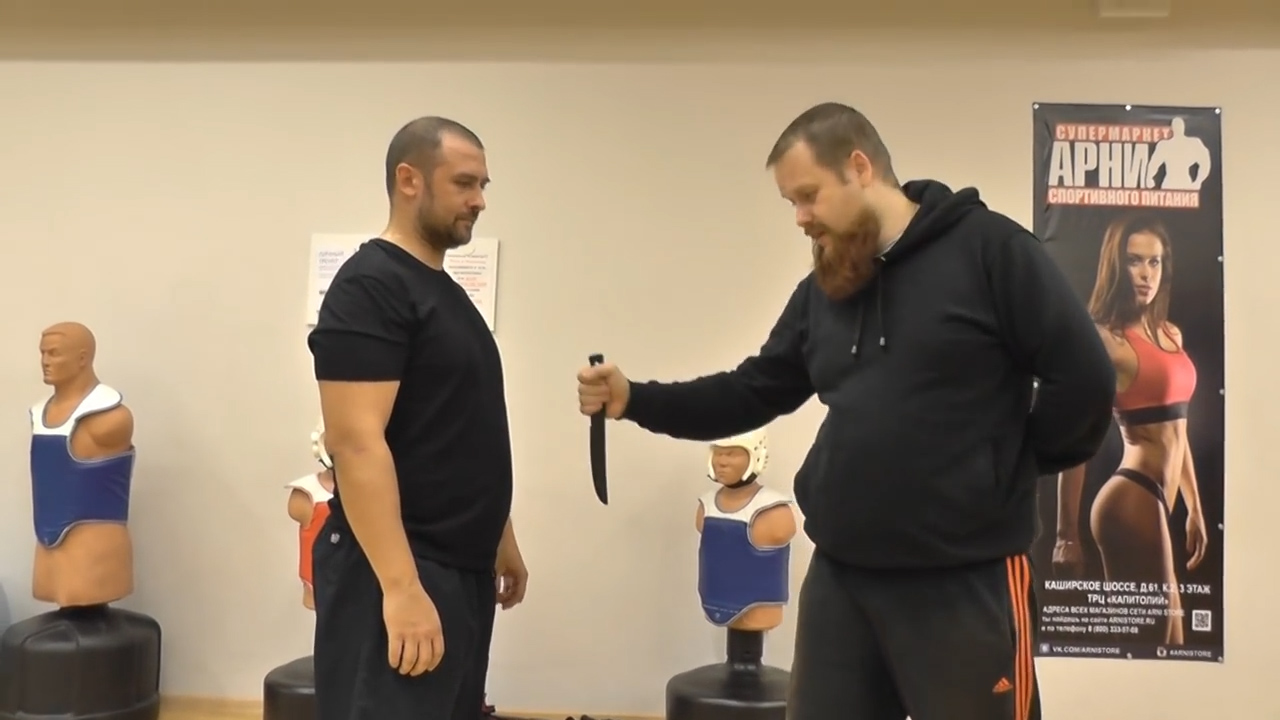knife: (570, 345, 619, 512)
